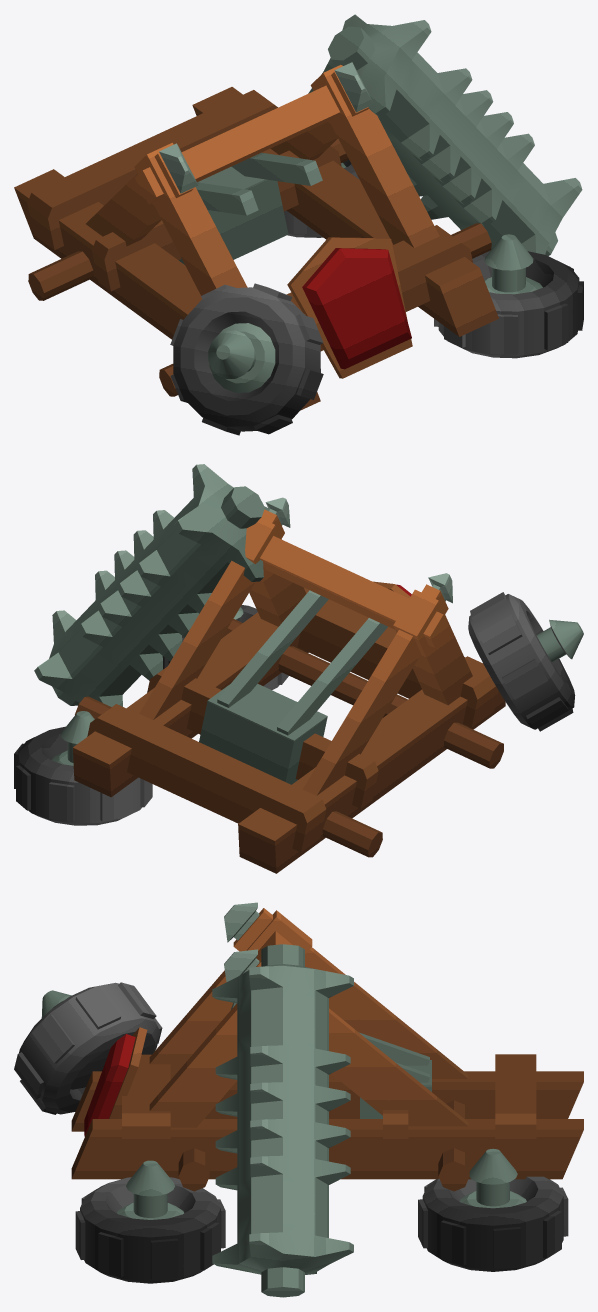
The model's file is destroyed-catapult.fbx.
3 views of the same model, one above another, from view 1: azimuth 30°, elevation 25°; view 2: azimuth 150°, elevation 25°; view 3: azimuth 270°, elevation 25° (orthographic). The views are drawn at different scales.
Visible parts, largest first — view 1: Catapult Body.002, Catapult Body.003, Wheel Right 0.001, Wheel Left 0.001, Wheel Left 0.002; view 2: Catapult Body.002, Catapult Body.003, Wheel Right 0.001, Wheel Left 0.002, Wheel Left 0.001; view 3: Catapult Body.002, Catapult Body.003, Wheel Left 0.001, Wheel Left 0.002, Wheel Right 0.001.
Part boxes in pixels (<box>): Catapult Body.002: <box>14,62,498,410</box>; Catapult Body.003: <box>308,14,582,255</box>; Wheel Right 0.001: <box>170,283,323,435</box>; Wheel Left 0.001: <box>434,234,583,358</box>; Wheel Left 0.002: <box>284,160,359,237</box>; Catapult Body.002: <box>73,497,505,873</box>; Catapult Body.003: <box>34,464,268,706</box>; Wheel Right 0.001: <box>468,592,583,731</box>; Wheel Left 0.002: <box>14,711,152,825</box>; Wheel Left 0.001: <box>162,605,288,689</box>; Catapult Body.002: <box>71,902,583,1191</box>; Catapult Body.003: <box>212,944,353,1297</box>; Wheel Left 0.001: <box>75,1160,225,1283</box>; Wheel Left 0.002: <box>418,1148,568,1271</box>; Wheel Right 0.001: <box>14,982,162,1114</box>.
Bounding box in the file's own units: 211 × 119 × 219.
